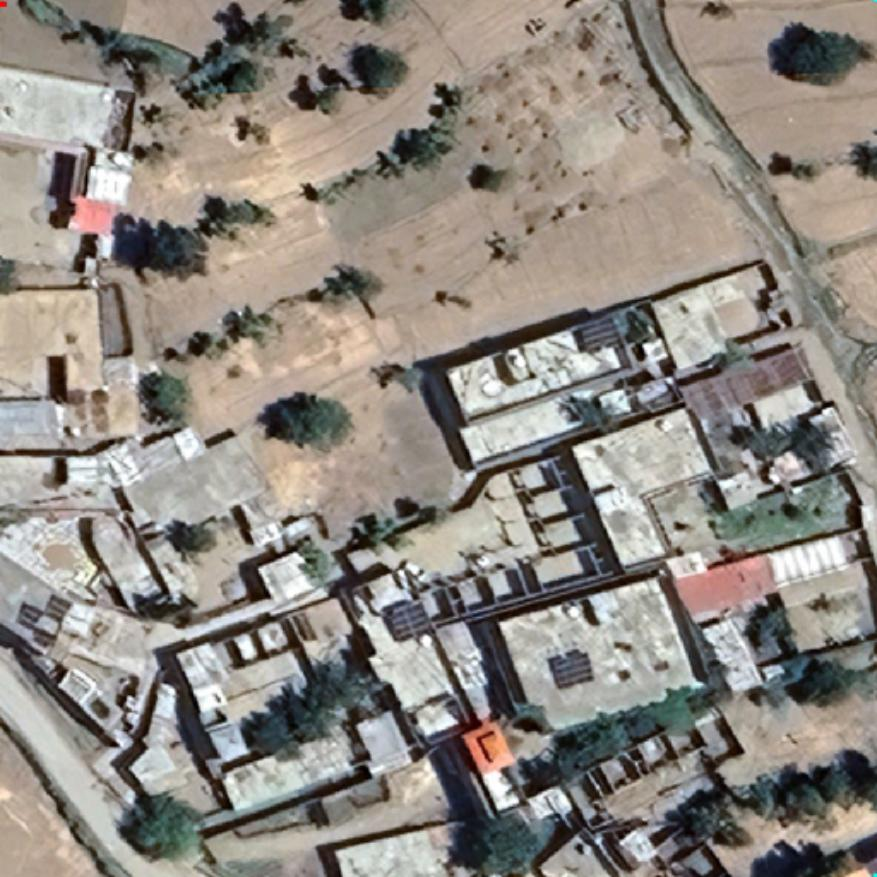Solarpanel: (381, 593, 437, 645), (570, 309, 628, 357), (544, 643, 598, 693)
